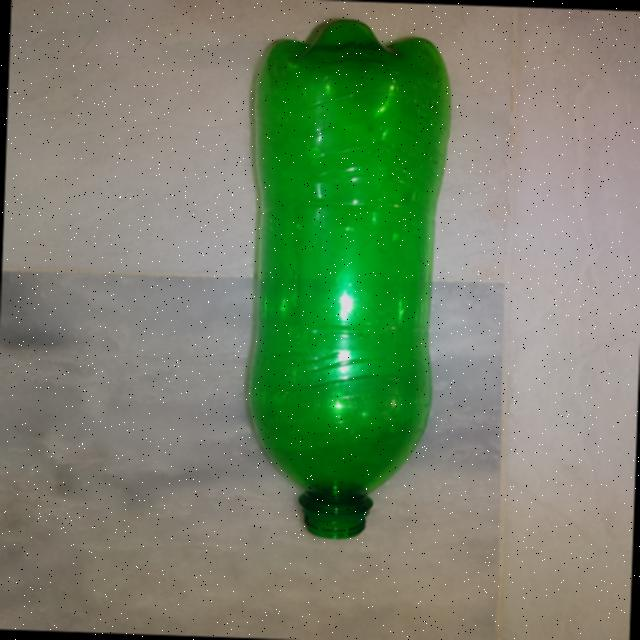bottle: (226, 14, 444, 556)
